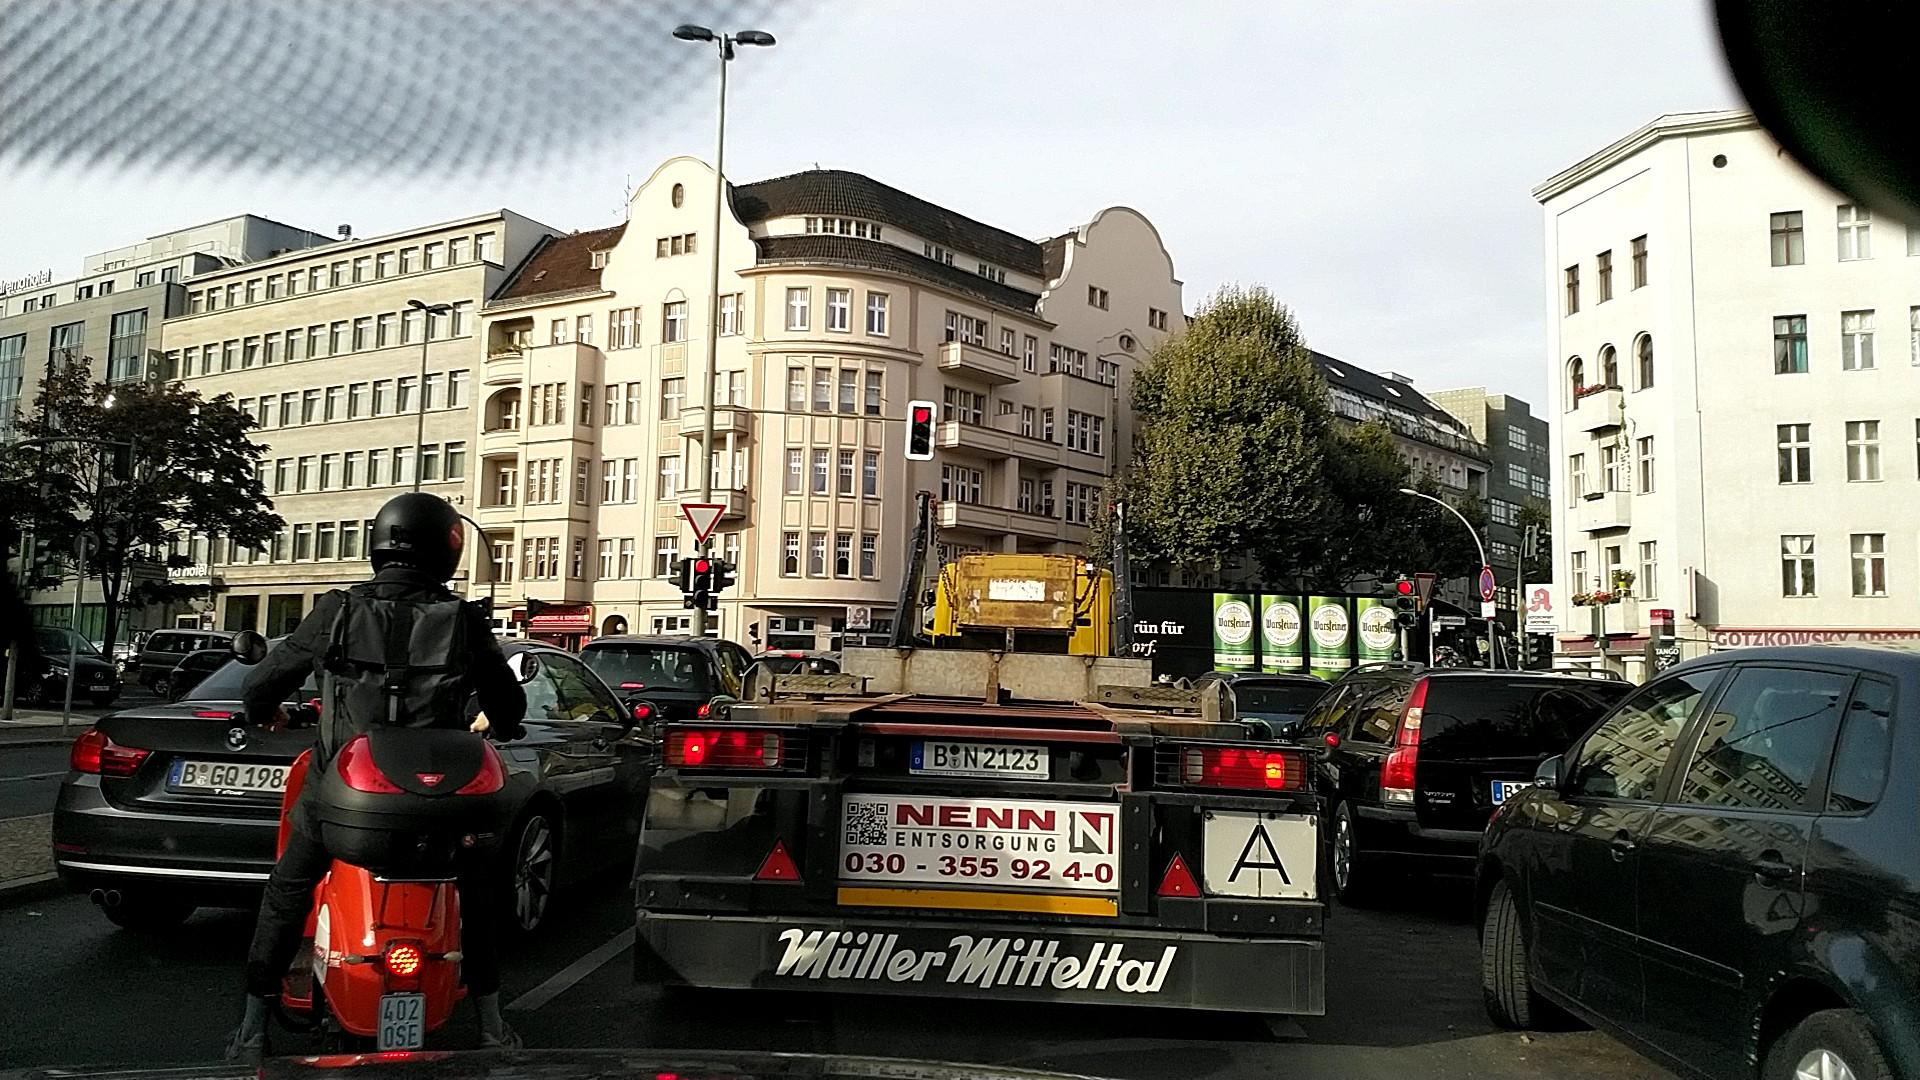Vehicle registration plate: (910, 739, 1051, 782), (168, 754, 296, 795), (379, 992, 423, 1056)
